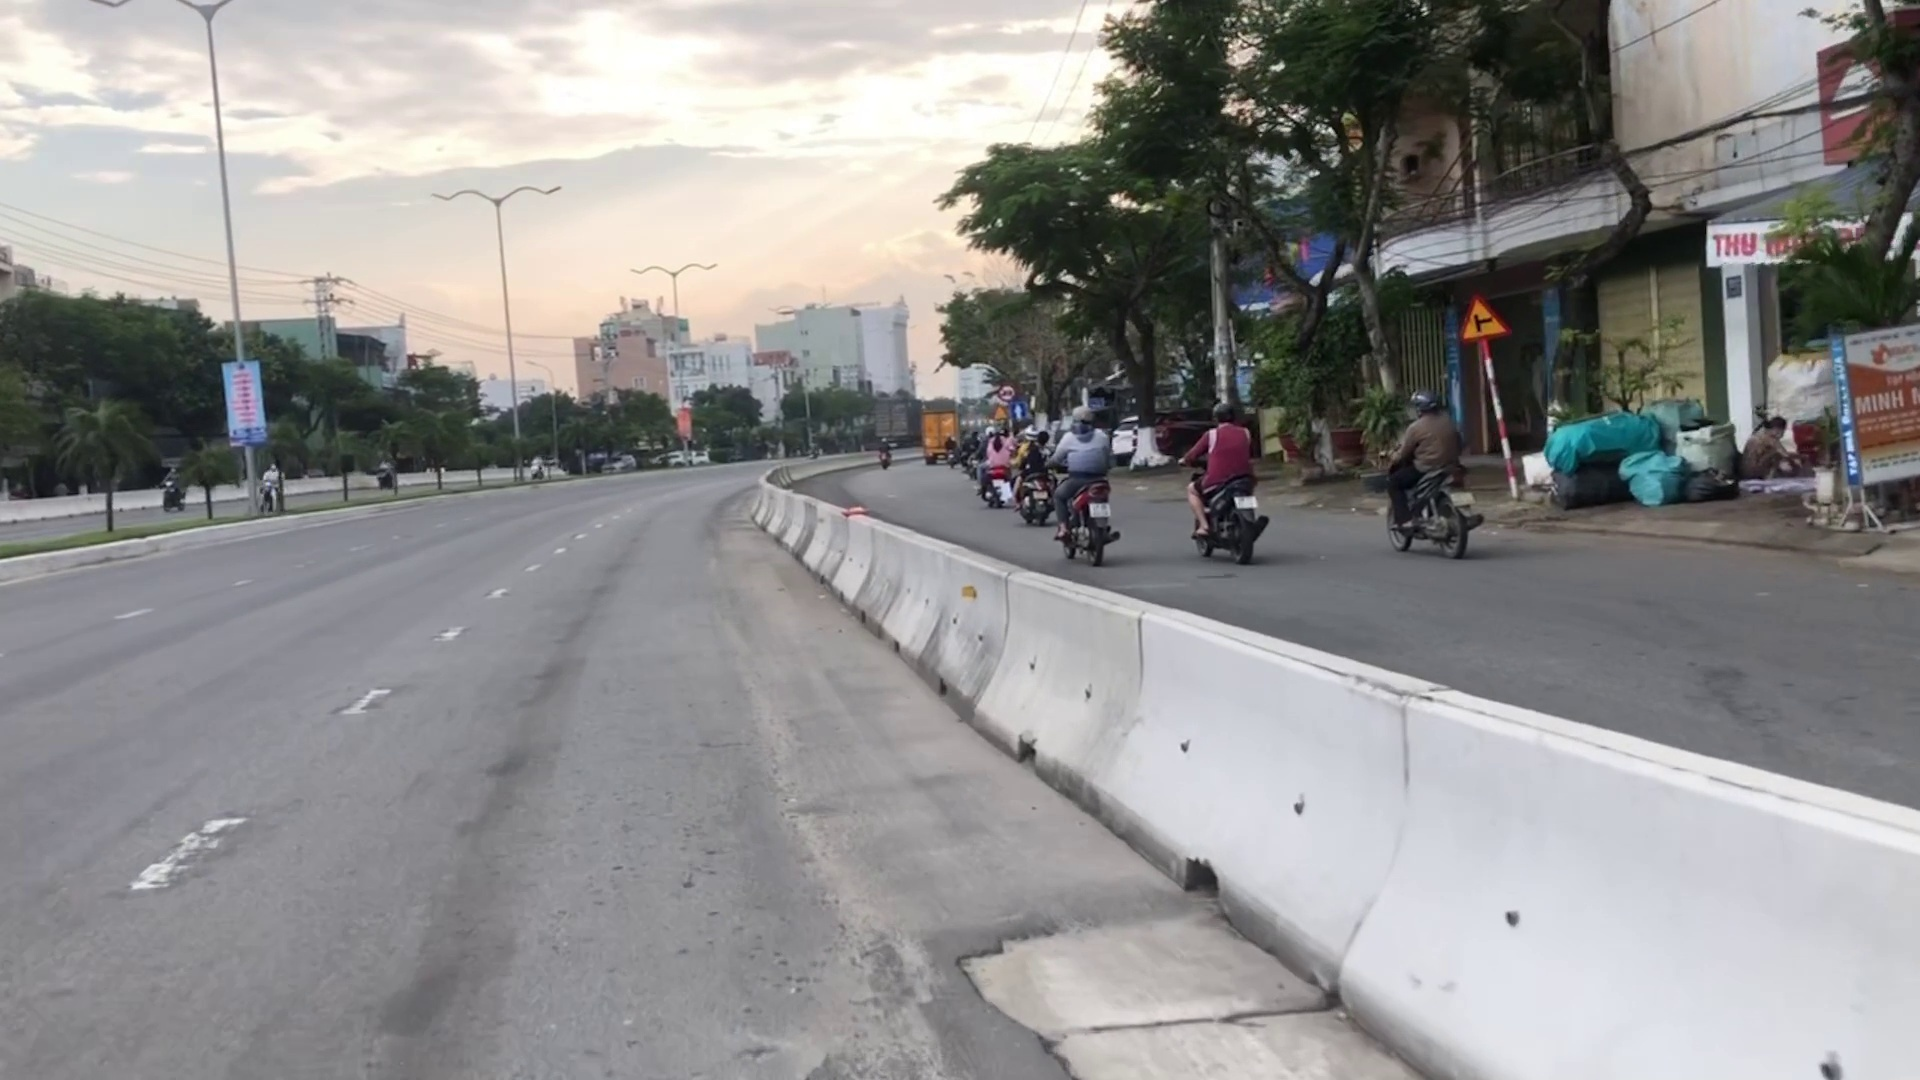Bien khac: (1457, 291, 1506, 342), (993, 382, 1013, 400), (988, 405, 1007, 418), (1011, 405, 1021, 417)
